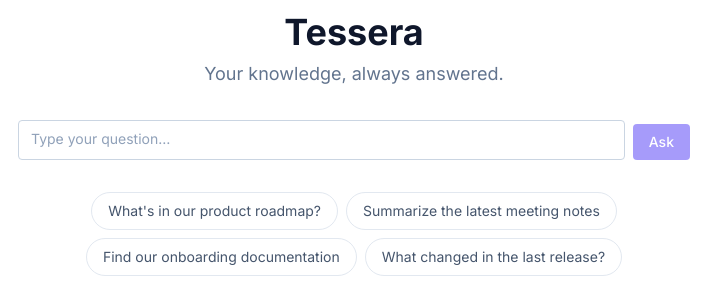
Test: starter prompts › clicking a chip populates the textarea with that chip text
Click the button "What's in our product roadmap?". click: point(215, 211)
box: [91,192,338,230]
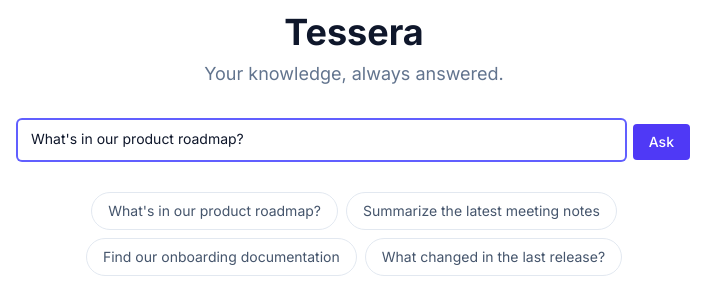
Expected: the text box holds "What's in our product roadmap?", [18,120,625,160]
